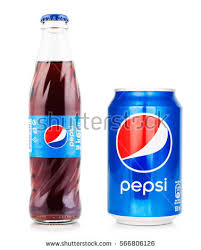can: (100, 78, 186, 231)
